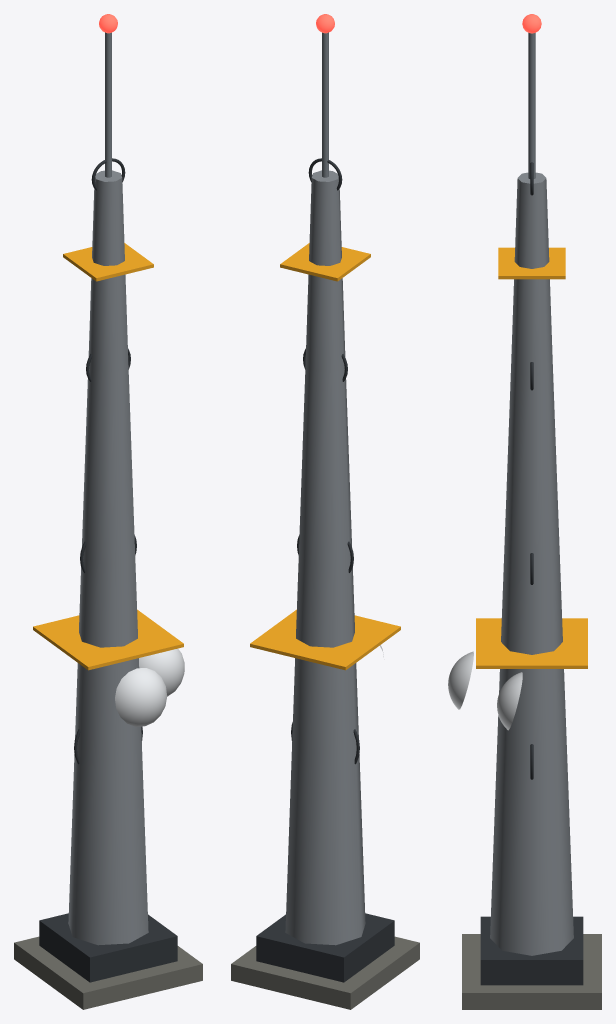
Rendered from broadcast-mast.glb.
The picture shows the model from 3 angles, left to right: view 1: azimuth 30°, elevation 25°; view 2: azimuth 150°, elevation 25°; view 3: azimuth 270°, elevation 25°; orthographic projection.
Parts seen in each view (by area): view 1: broadcast-mast; view 2: broadcast-mast; view 3: broadcast-mast.
Part boxes in pixels (x1,y1,x2,y2): broadcast-mast: (14,14,202,1009); broadcast-mast: (231,14,419,1009); broadcast-mast: (448,14,601,1009).
Size of the model in its own units: 6.4 by 45.72 by 6.6.
